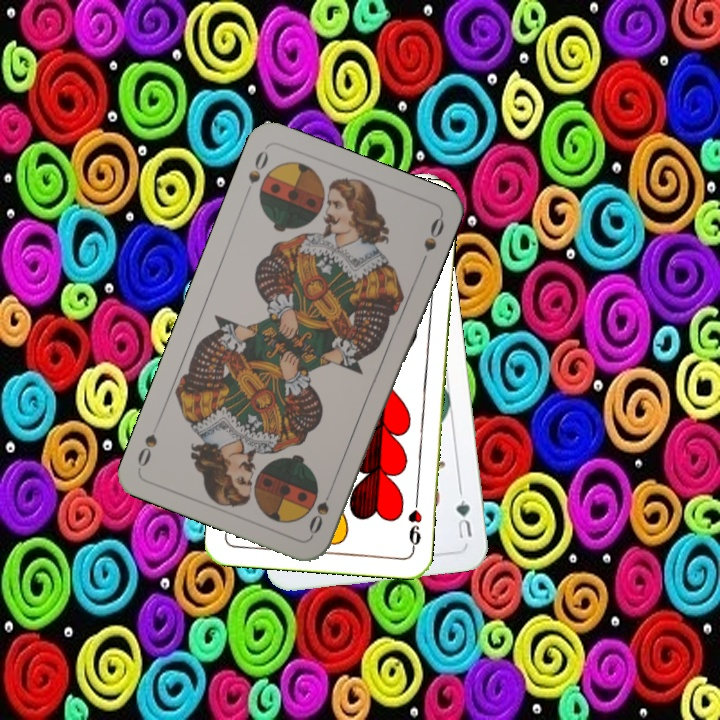GU: (451, 495, 475, 542)
H9: (404, 494, 425, 553)
SO: (305, 482, 336, 538), (240, 146, 271, 200)
